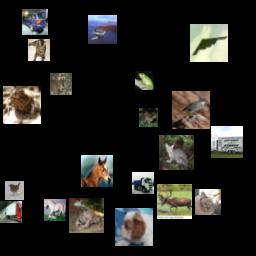airplane: (190, 24, 228, 62), (88, 15, 117, 44)
automobile: (22, 9, 48, 35)
bird: (172, 91, 210, 129), (5, 181, 24, 200)
cat: (159, 135, 194, 170), (195, 189, 221, 215), (28, 39, 50, 61)
deer: (157, 184, 192, 219), (50, 73, 72, 95)
dog: (115, 208, 153, 246)
frog: (3, 86, 41, 124), (69, 198, 104, 233), (135, 71, 154, 90), (139, 108, 158, 127)
truck: (211, 126, 243, 158), (132, 172, 154, 194), (0, 201, 22, 223)
